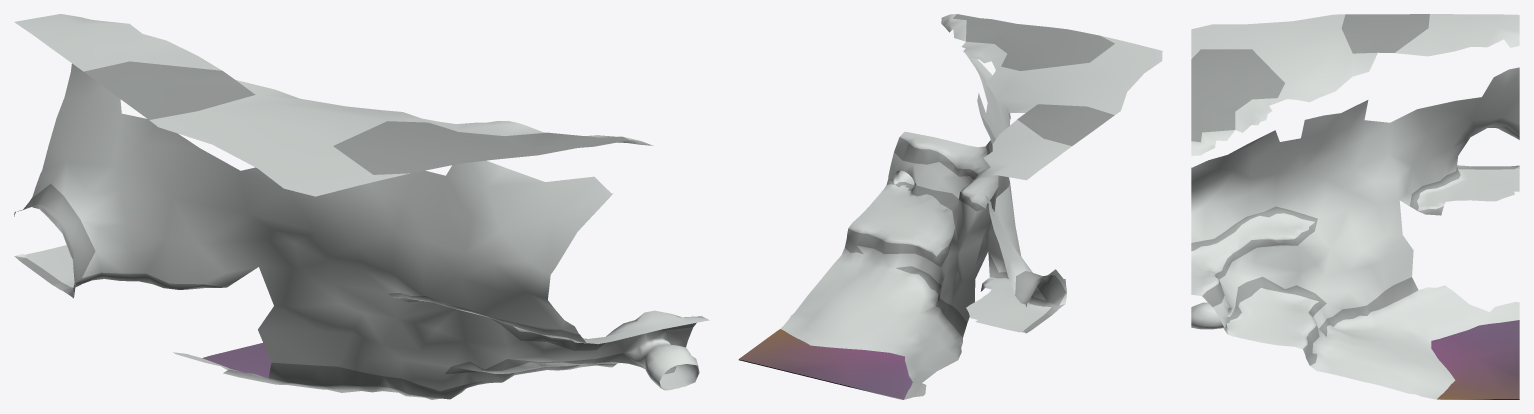
The picture shows the model from 3 angles, left to right: view 1: azimuth 30°, elevation 25°; view 2: azimuth 150°, elevation 25°; view 3: azimuth 270°, elevation 25°; orthographic projection. The views are drawn at different scales.
Parts seen in each view (by area): view 1: G:\FFXIV-MapTools\exports\r2f1\bg\ex1\01_roc_r2\fld\r2f1\bgp (×7); view 2: G:\FFXIV-MapTools\exports\r2f1\bg\ex1\01_roc_r2\fld\r2f1\bgp (×7); view 3: G:\FFXIV-MapTools\exports\r2f1\bg\ex1\01_roc_r2\fld\r2f1\bgp (×7).
Part boxes in pixels (x1,y1,x2,y2): G:\FFXIV-MapTools\exports\r2f1\bg\ex1\01_roc_r2\fld\r2f1\bgp (×7): (14,14,709,399); G:\FFXIV-MapTools\exports\r2f1\bg\ex1\01_roc_r2\fld\r2f1\bgp (×7): (739,14,1162,399); G:\FFXIV-MapTools\exports\r2f1\bg\ex1\01_roc_r2\fld\r2f1\bgp (×7): (1191,14,1519,399).
Size of the model in its own units: 128 by 106 by 128.
